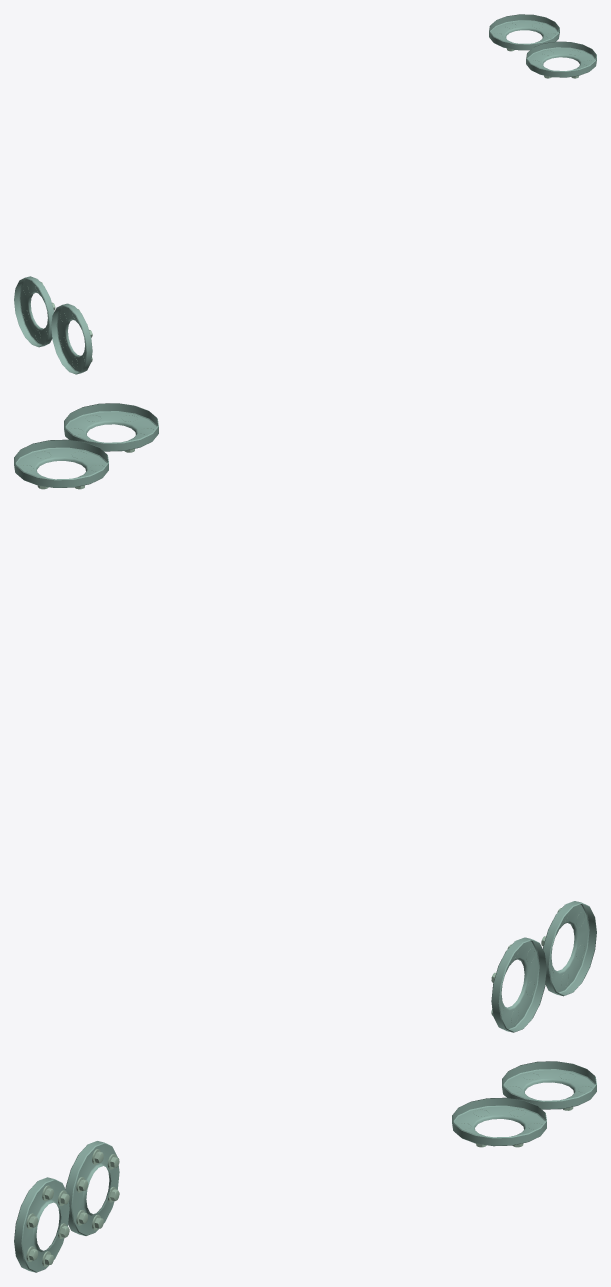
File: PipeComplexLarge_A3_21_End.fbx
The picture shows the model from 3 angles, top to bottom: view 1: azimuth 30°, elevation 25°; view 2: azimuth 150°, elevation 25°; view 3: azimuth 330°, elevation 25°; orthographic projection. The views are drawn at different scales.
Visible parts, largest first — view 1: PipeComplexLarge_A3_21_End.001; view 2: PipeComplexLarge_A3_21_End.001; view 3: PipeComplexLarge_A3_21_End.001.
Boxes of the visible parts, box(x1,y1,x2,y2) form: PipeComplexLarge_A3_21_End.001: box(14, 14, 596, 374); PipeComplexLarge_A3_21_End.001: box(14, 403, 596, 1032); PipeComplexLarge_A3_21_End.001: box(14, 1061, 596, 1272).
Size of the model in its own units: 2.79 by 1.59 by 1.58.
